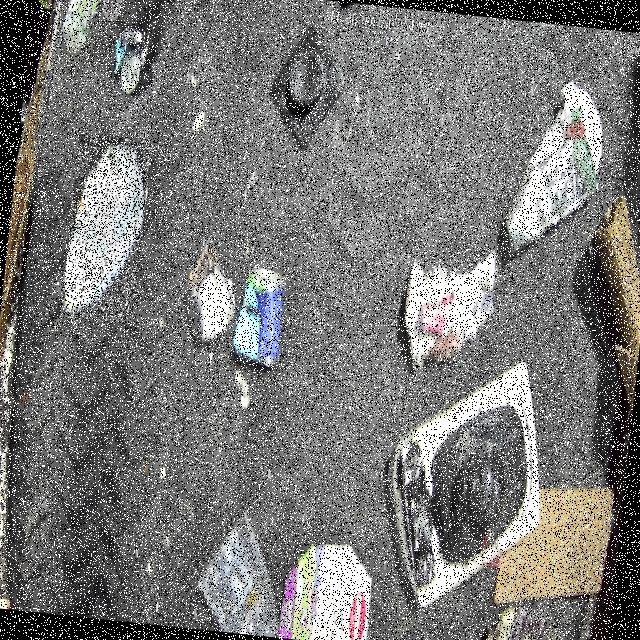milk-jug: (59, 130, 150, 324)
